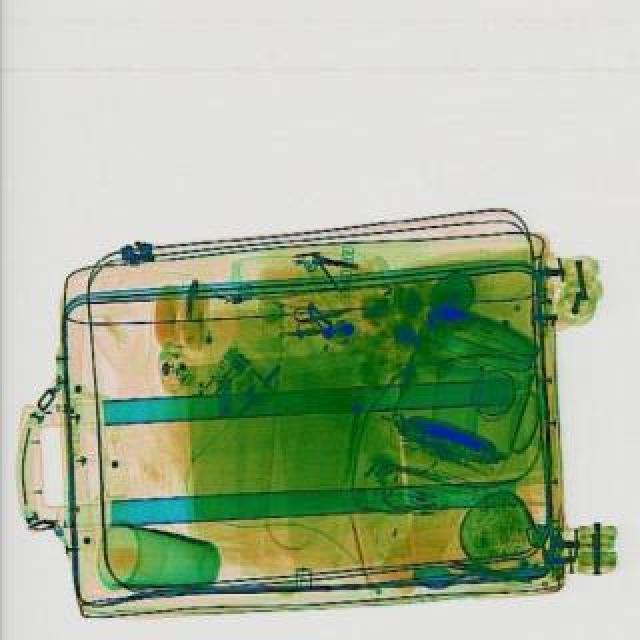pliers: (290, 292, 358, 336)
